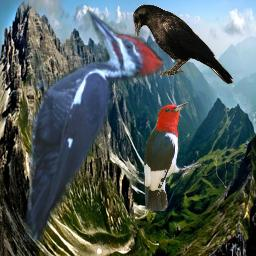Crow: (133, 4, 234, 84)
Woodpecker: (21, 3, 163, 252), (143, 102, 202, 211)
